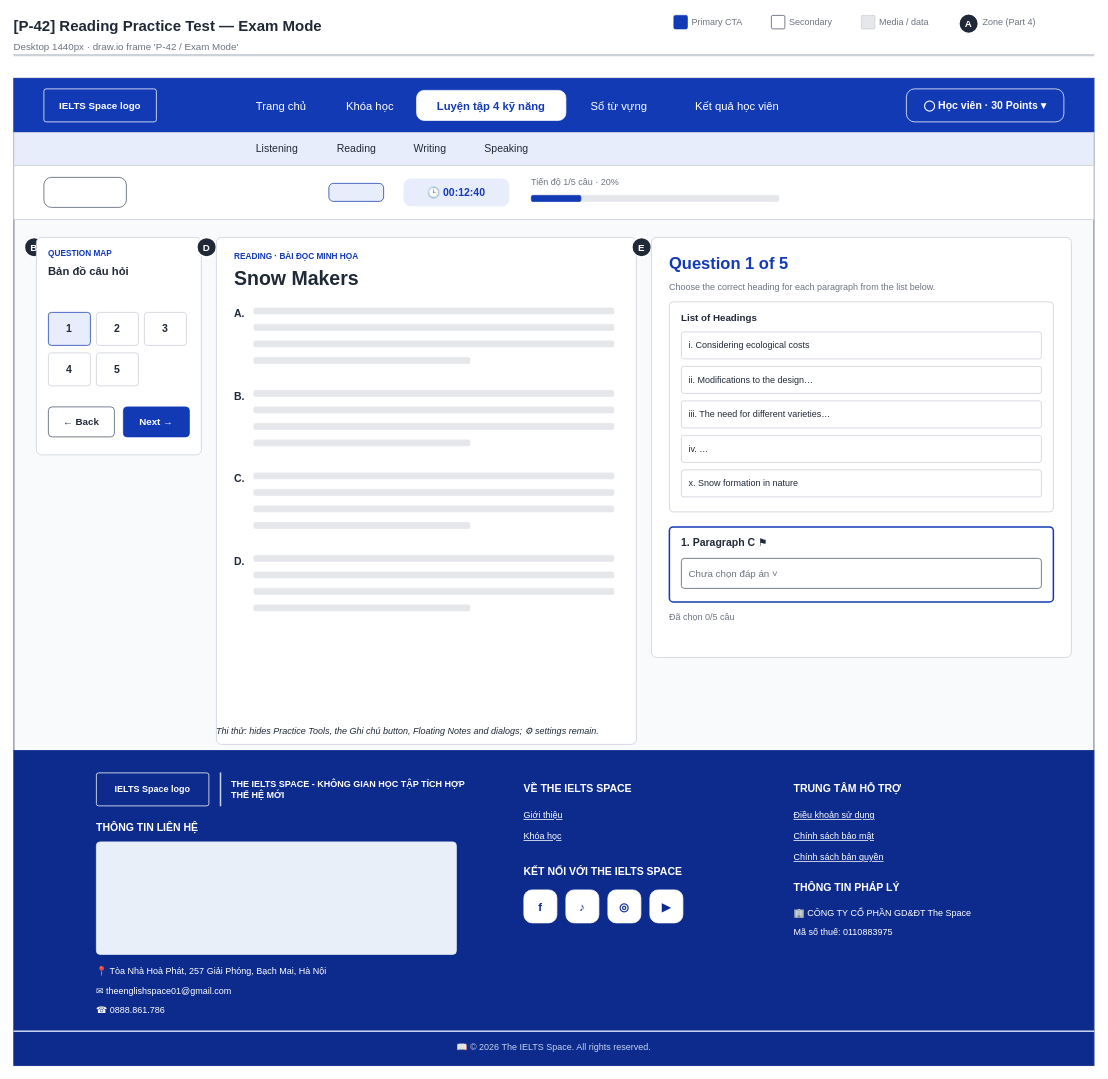
Image size: 1108x1079. Some labels were removed from this diagram. The shapes that lost their labels are listed below. From the top down, each one's box as (x1, y1, x2, y2) in pixels, then its label:
(43, 177, 126, 207): ← Thoát
(328, 183, 384, 201): Thi thử
(96, 841, 456, 954): 📍 The IELTS Space Mở trong Maps ↗
